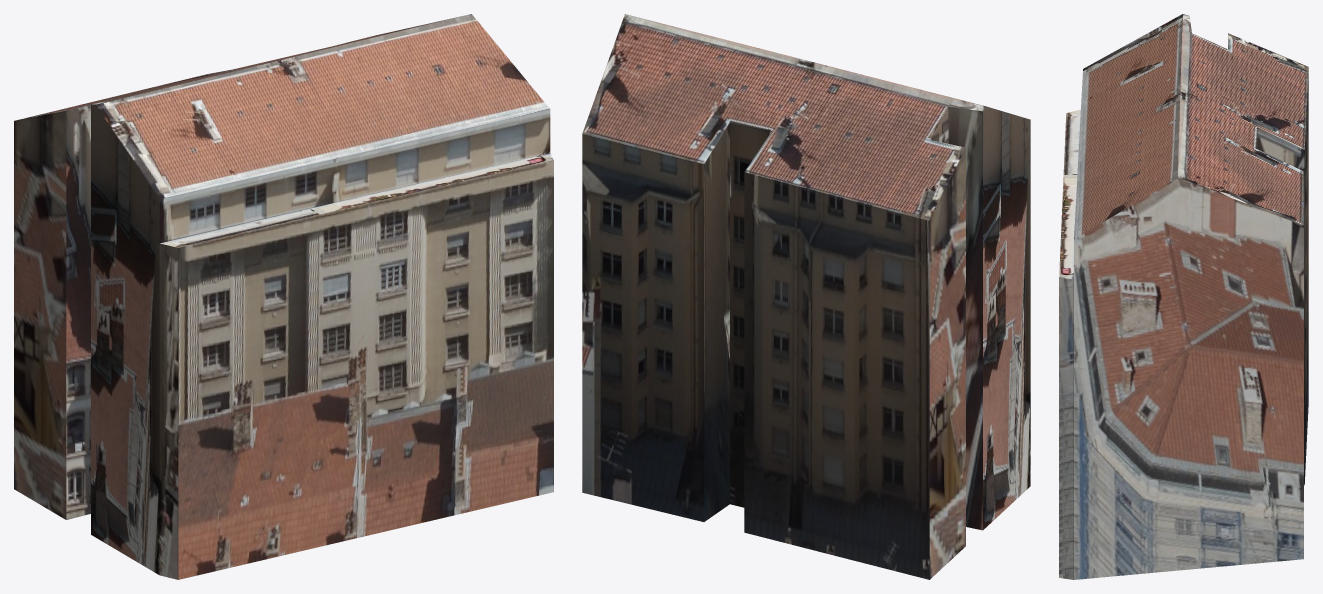
3 views of the same model, side by side, from view 1: azimuth 30°, elevation 25°; view 2: azimuth 150°, elevation 25°; view 3: azimuth 270°, elevation 25° (orthographic). The views are drawn at different scales.
Parts seen in each view (by area): view 1: Z_UP; view 2: Z_UP; view 3: Z_UP.
Boxes of the visible parts, x1,y1,x2,y2 form: Z_UP: [14, 14, 553, 579]; Z_UP: [582, 14, 1030, 579]; Z_UP: [1059, 14, 1308, 579].
Size of the model in its own units: 29.06 by 29.67 by 17.08.
2 materials, 1 textured.
